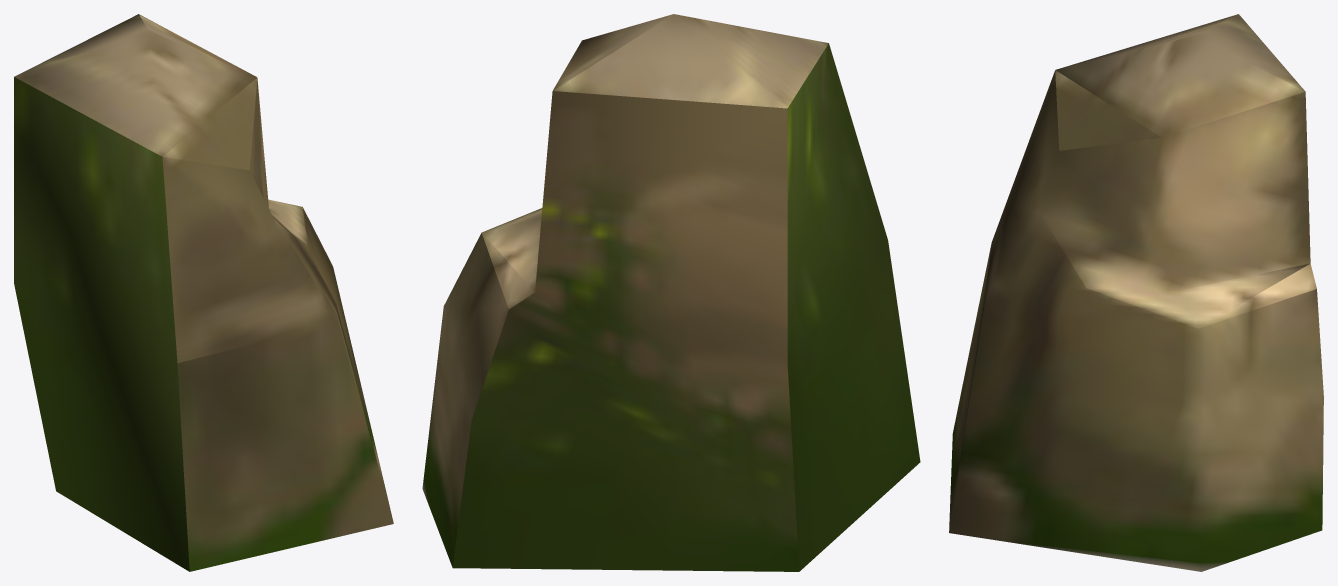
Rendered from shitou04.FBX.
3 views of the same model, side by side, from view 1: azimuth 30°, elevation 25°; view 2: azimuth 150°, elevation 25°; view 3: azimuth 270°, elevation 25° (orthographic). The views are drawn at different scales.
Visible parts, largest first — view 1: majorcity_shanti03; view 2: majorcity_shanti03; view 3: majorcity_shanti03.
Part boxes in pixels (left/top/right/bottom): majorcity_shanti03: left=14, top=14, right=393, bottom=571; majorcity_shanti03: left=422, top=14, right=920, bottom=571; majorcity_shanti03: left=949, top=14, right=1323, bottom=571.
Bounding box in the file's own units: 53.16 × 69.81 × 54.3.
